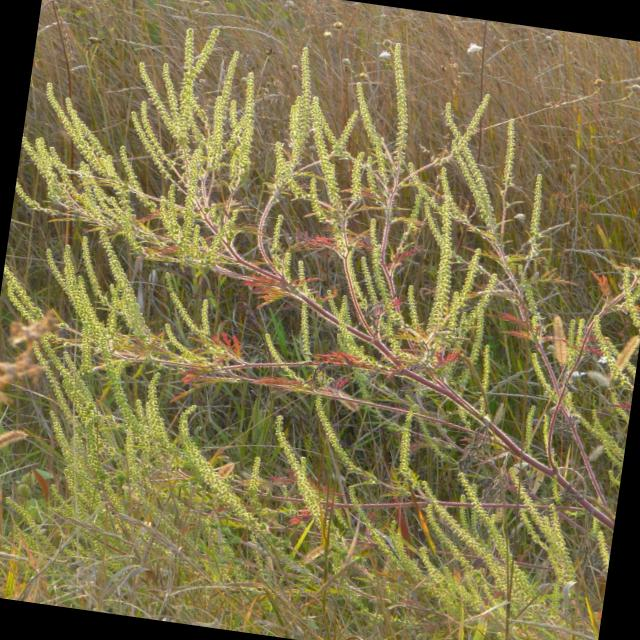ambrosia: (279, 366, 624, 628), (306, 43, 548, 307), (13, 219, 215, 405), (39, 377, 238, 552), (122, 8, 276, 208), (542, 235, 640, 391)
